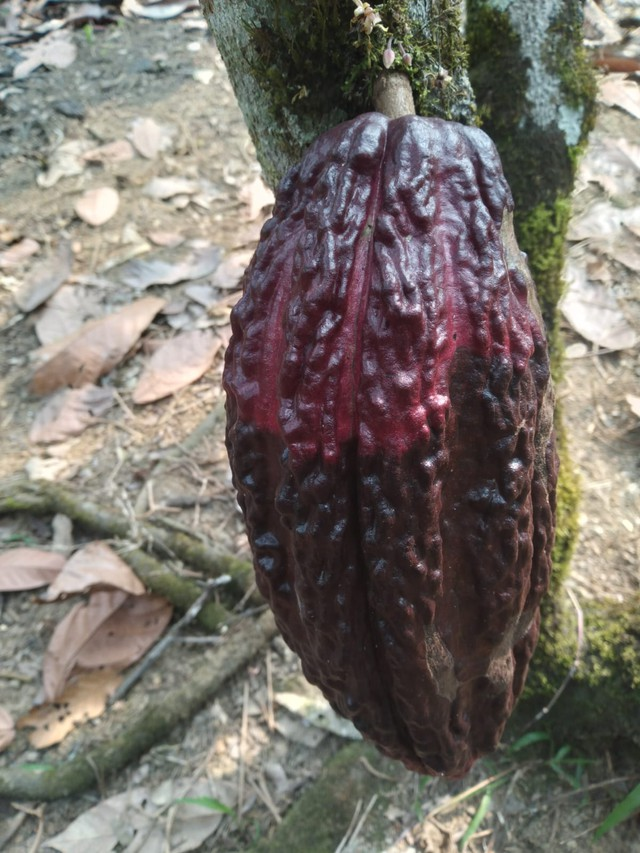phytophthora palmivora: (211, 108, 568, 784)
